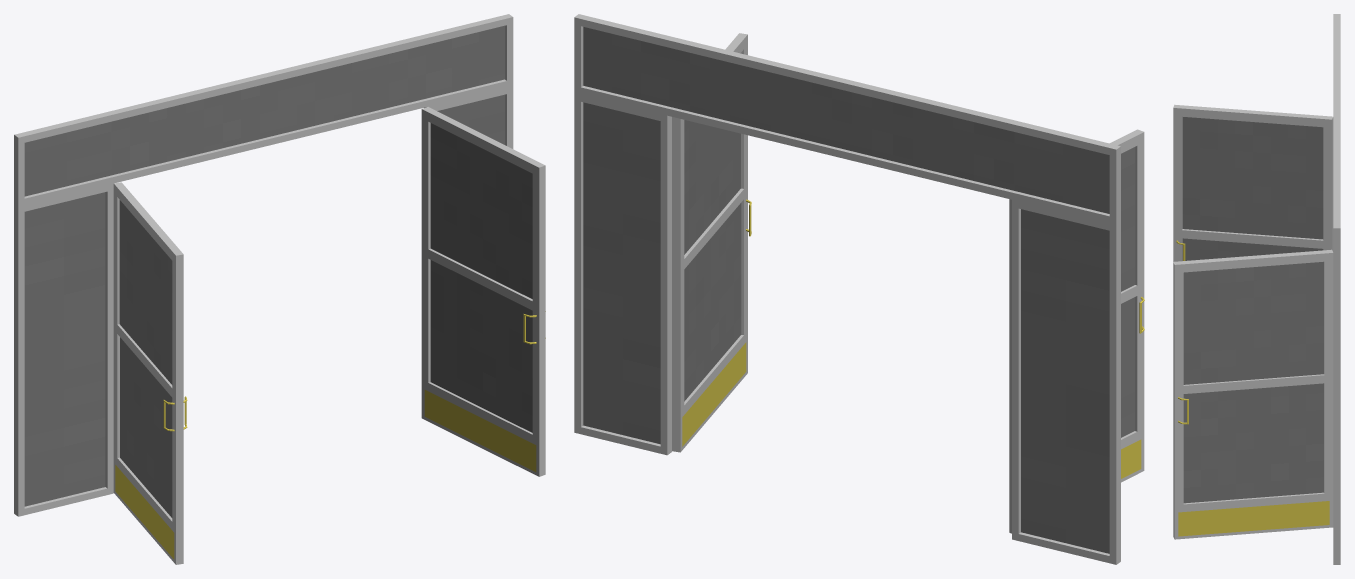
The model's file is SW_corridor__R_lobby_R_Aula_Ovi_2_Ikkunaav_003.FBX.
3 renders of one model, left to right at view 1: azimuth 30°, elevation 25°; view 2: azimuth 150°, elevation 25°; view 3: azimuth 270°, elevation 25°, orthographic. The views are drawn at different scales.
Visible parts, largest first — view 1: SW_corridor__R_lobby_R_Aula_Ovi_2_Ikkunaav_003; view 2: SW_corridor__R_lobby_R_Aula_Ovi_2_Ikkunaav_003; view 3: SW_corridor__R_lobby_R_Aula_Ovi_2_Ikkunaav_003.
Part boxes in pixels (bbox=[...]): SW_corridor__R_lobby_R_Aula_Ovi_2_Ikkunaav_003: bbox=[14, 14, 545, 564]; SW_corridor__R_lobby_R_Aula_Ovi_2_Ikkunaav_003: bbox=[574, 14, 1144, 564]; SW_corridor__R_lobby_R_Aula_Ovi_2_Ikkunaav_003: bbox=[1173, 14, 1340, 564].
Size of the model in its own units: 342 by 113 by 250.
